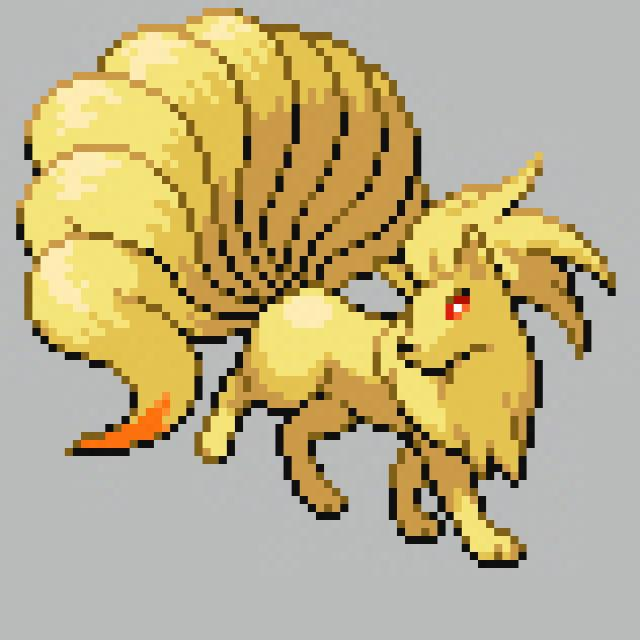Ninetales: (34, 152, 538, 556)
